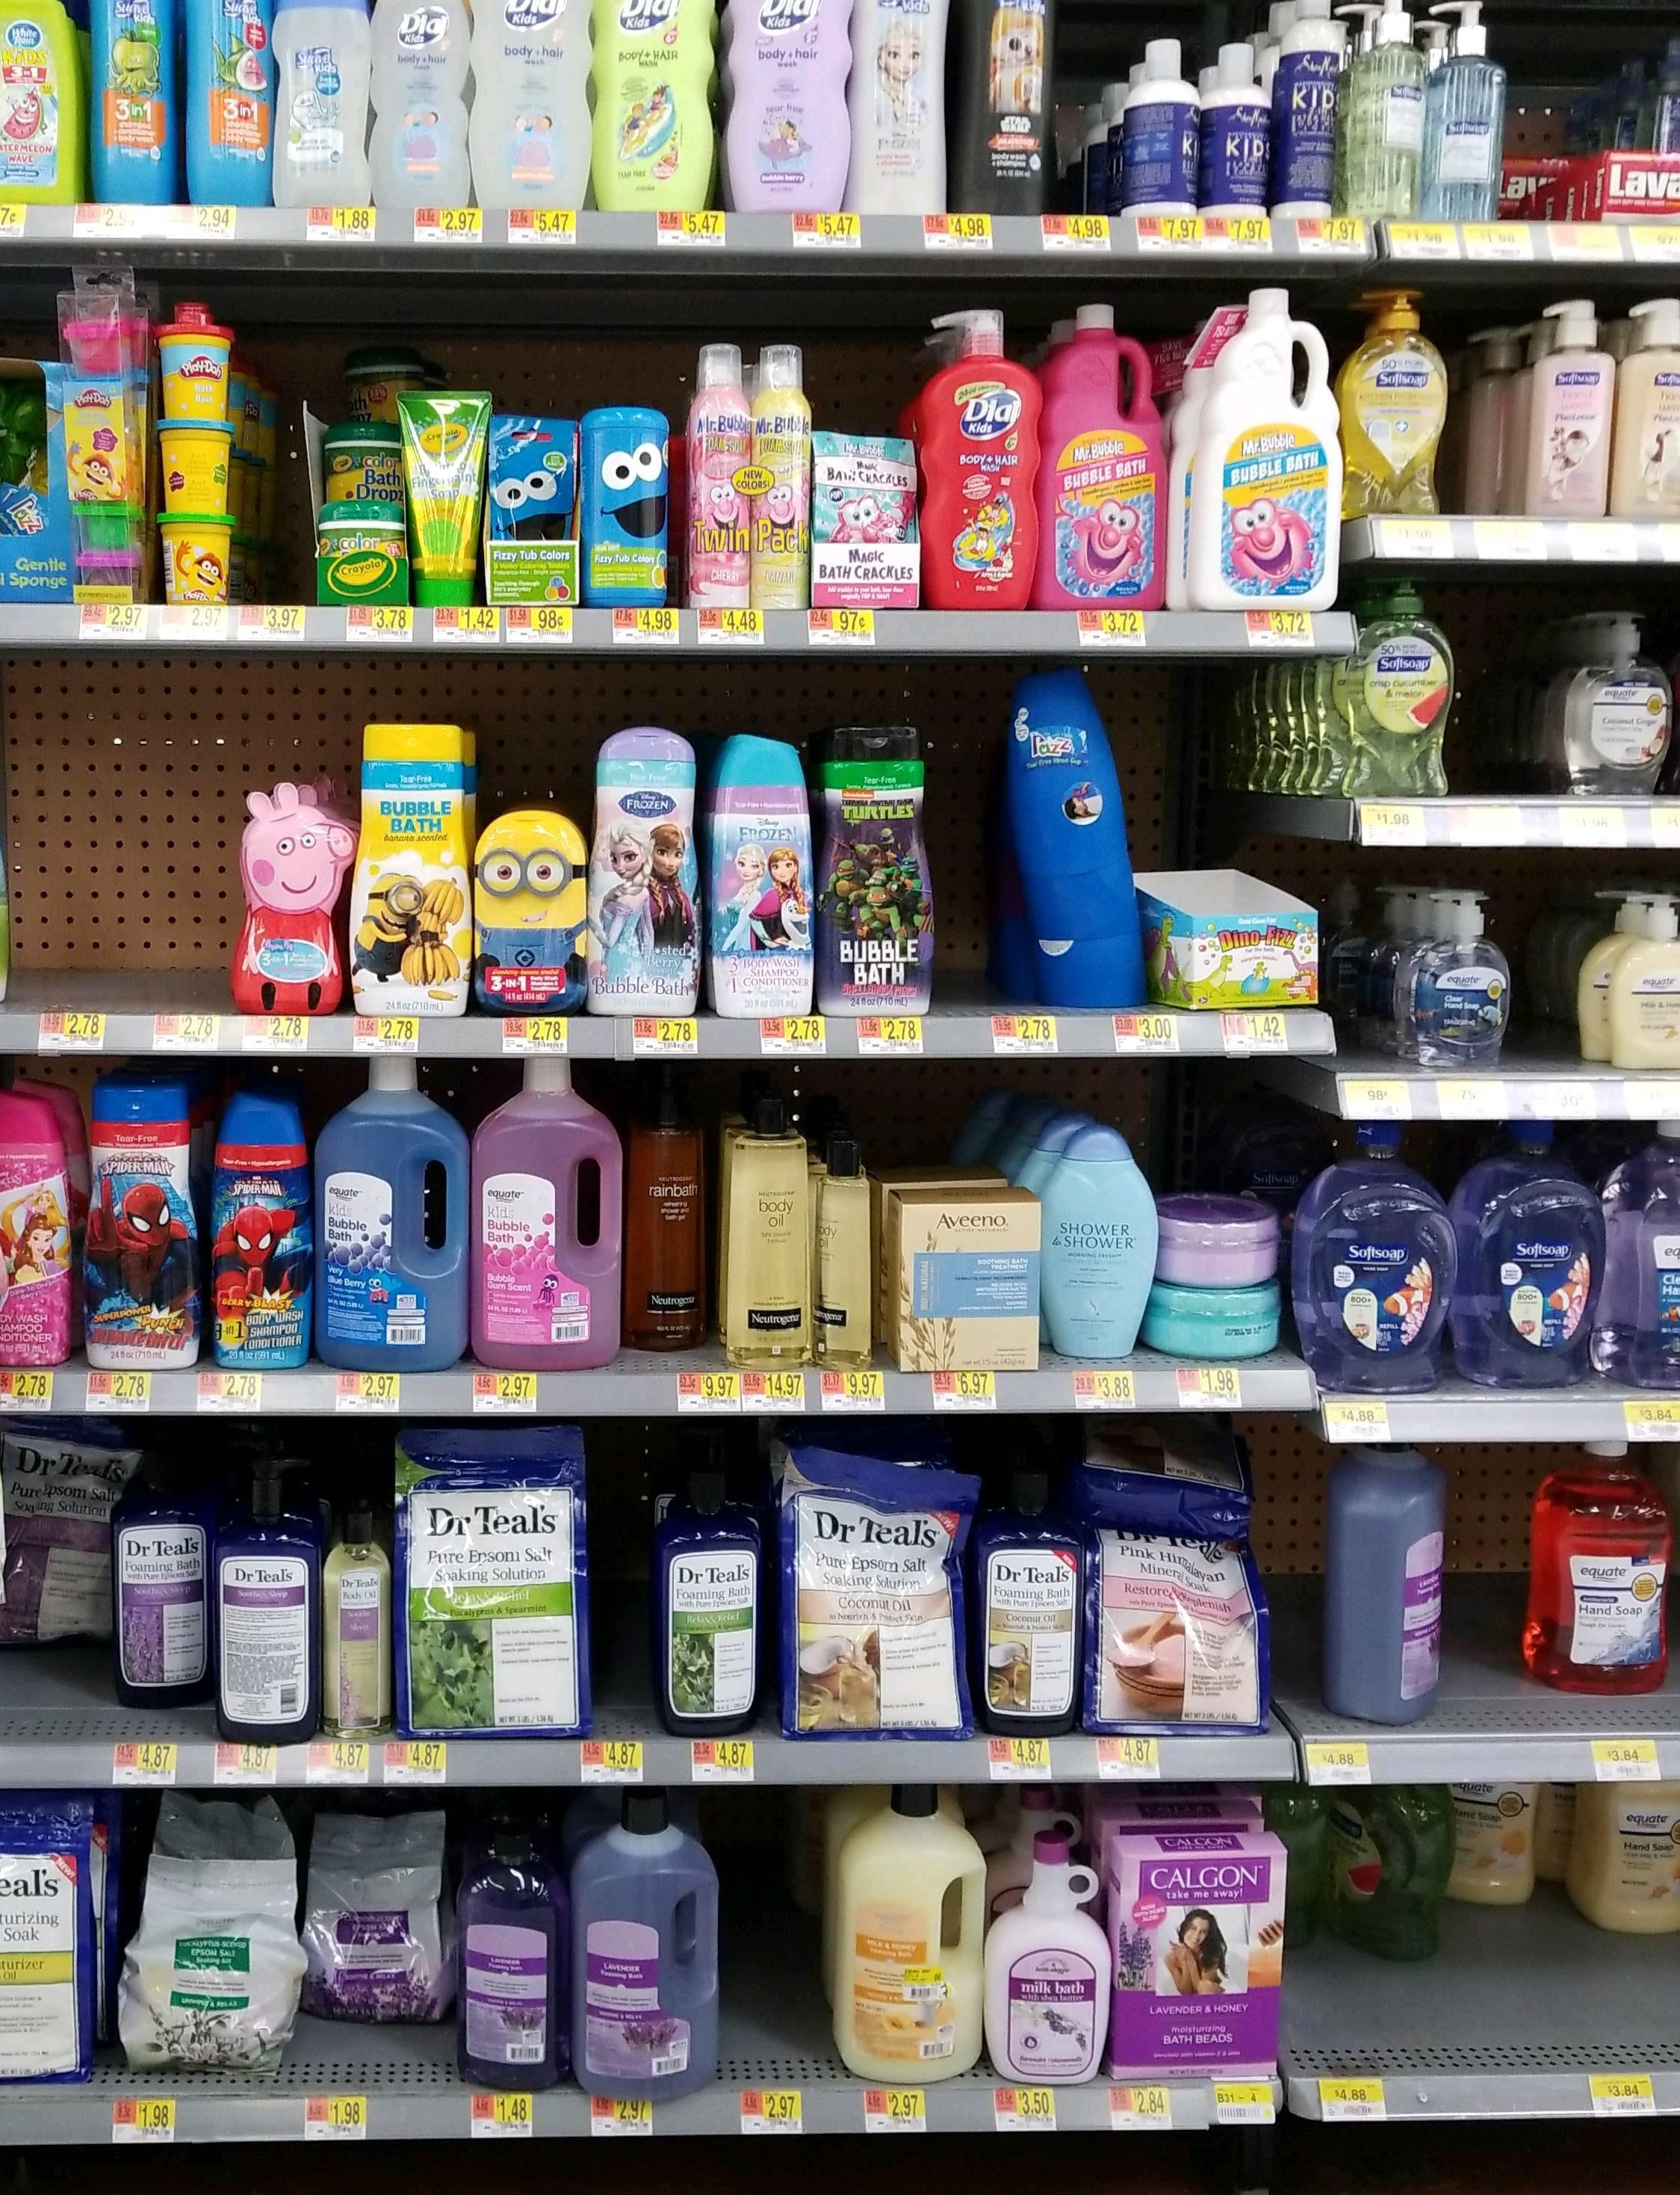empty: (12, 683, 228, 1016), (934, 704, 1006, 1009), (729, 1810, 808, 2070), (595, 1449, 656, 1729)
misalignment: (1318, 1443, 1456, 1720), (1327, 1780, 1452, 1960)
